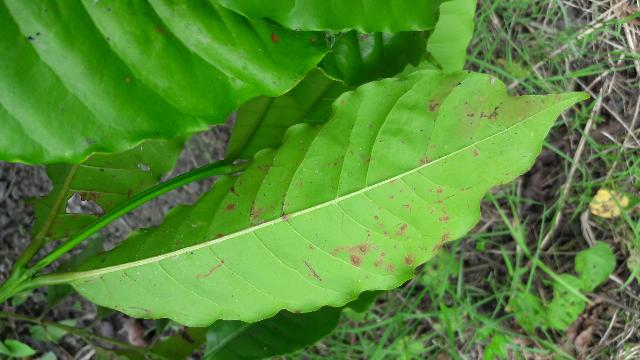red_spider_mite: (66, 70, 592, 324)
